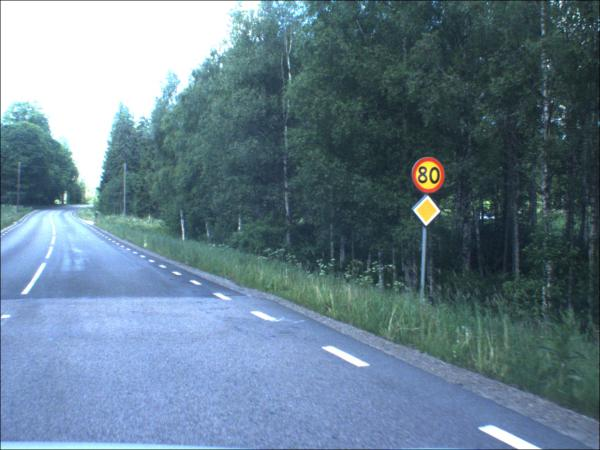80_SIGN: (414, 158, 447, 196)
PRIORITY_ROAD: (415, 196, 443, 227)
